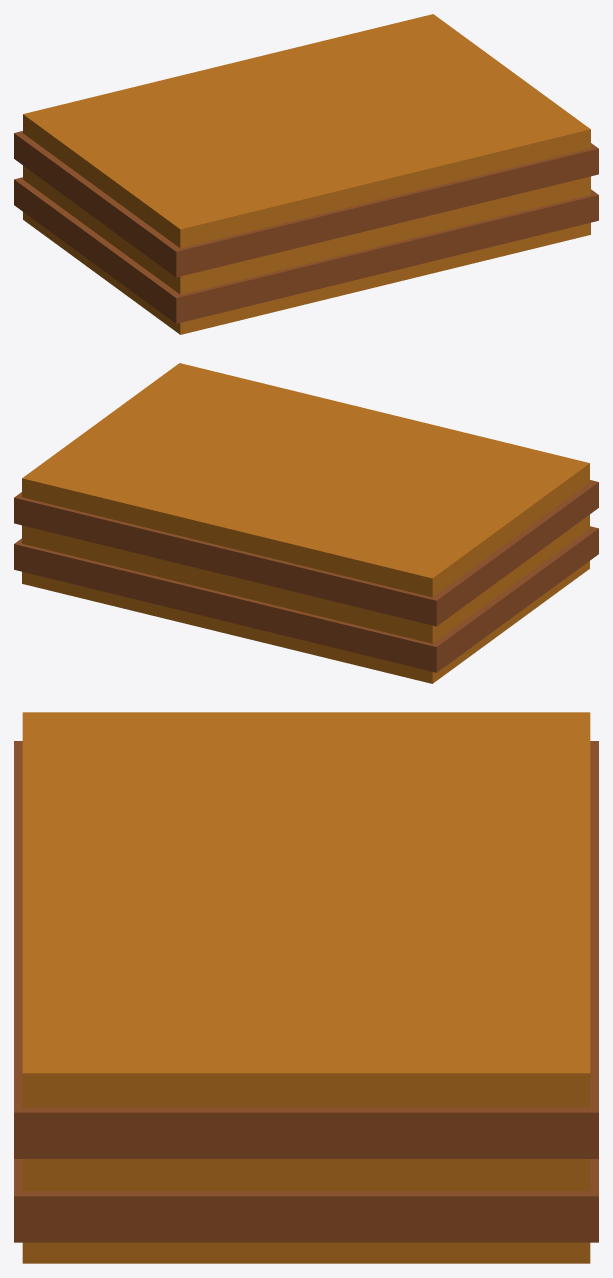
Rendered from boloretangulo choco.glb.
The picture shows the model from 3 angles, top to bottom: view 1: azimuth 30°, elevation 25°; view 2: azimuth 150°, elevation 25°; view 3: azimuth 270°, elevation 25°; orthographic projection. The views are drawn at different scales.
Parts seen in each view (by area): view 1: Cube, Cube.002, Cube.001; view 2: Cube, Cube.002, Cube.001; view 3: Cube, Cube.001, Cube.002.
Boxes of the visible parts, left/top/right/bottom form: Cube: left=23, top=14, right=590, bottom=334; Cube.002: left=14, top=177, right=598, bottom=323; Cube.001: left=14, top=131, right=598, bottom=277; Cube: left=22, top=363, right=589, bottom=683; Cube.002: left=14, top=526, right=598, bottom=672; Cube.001: left=14, top=480, right=598, bottom=626; Cube: left=22, top=712, right=590, bottom=1263; Cube.001: left=14, top=741, right=598, bottom=1158; Cube.002: left=14, top=1159, right=598, bottom=1242.
Size of the model in its own units: 3.1 by 0.7391 by 2.06.
